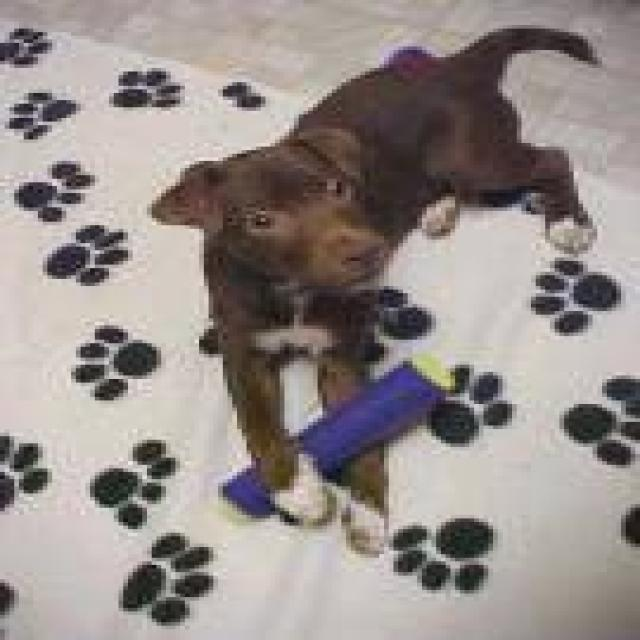dogs: (167, 29, 614, 567)
